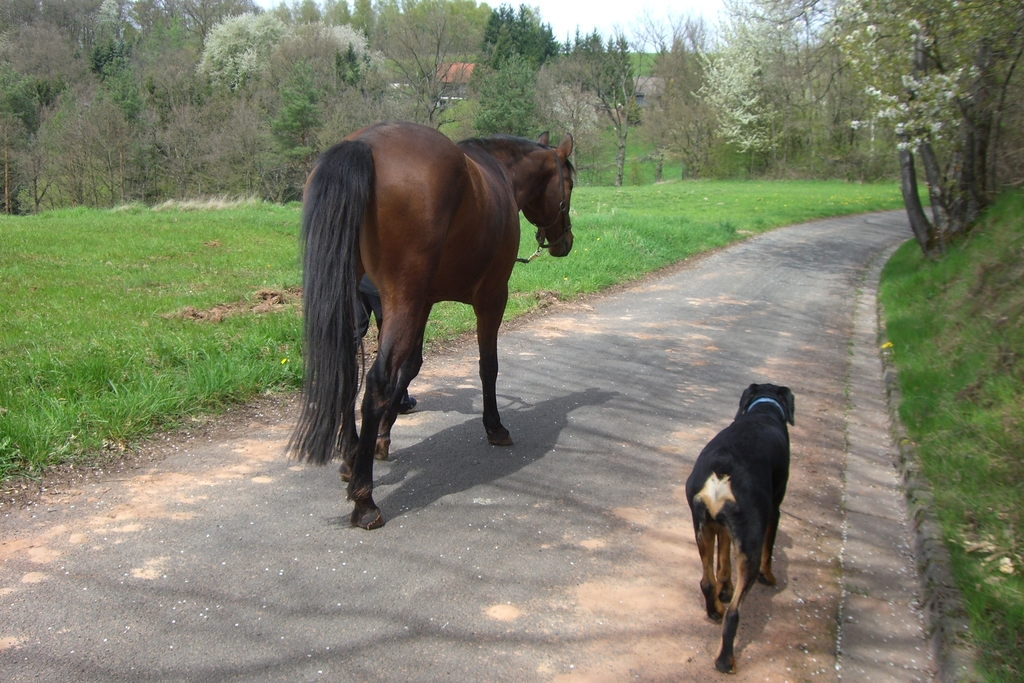horse: (281, 119, 570, 534)
